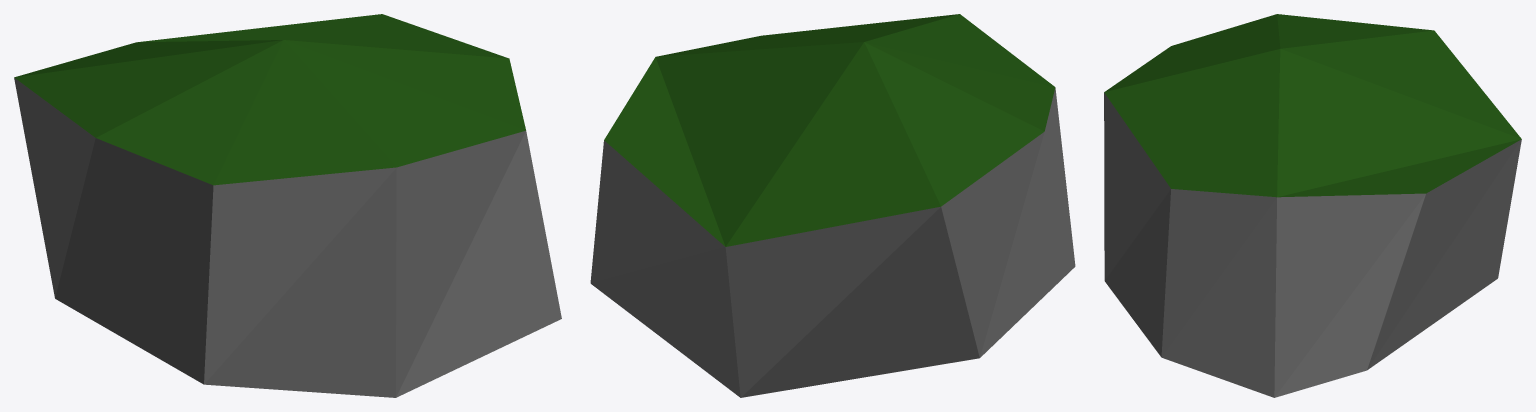
Rendered from Stone2_2.fbx.
3 views of the same model, side by side, from view 1: azimuth 30°, elevation 25°; view 2: azimuth 150°, elevation 25°; view 3: azimuth 270°, elevation 25° (orthographic). The views are drawn at different scales.
Visible parts, largest first — view 1: Stone2_2; view 2: Stone2_2; view 3: Stone2_2.
Boxes of the visible parts, x1,y1,x2,y2 form: Stone2_2: (14,14,561,397); Stone2_2: (590,14,1075,397); Stone2_2: (1104,14,1521,397).
Bounding box in the file's own units: 32 × 20.88 × 31.88.
